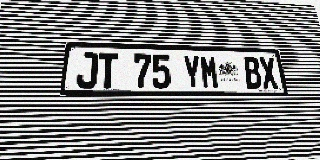5: (152, 54, 171, 88)
7: (133, 54, 152, 88)
B: (242, 57, 263, 89)
J: (76, 52, 98, 88)
M: (200, 55, 220, 89)
T: (97, 53, 118, 88)
X: (258, 57, 279, 89)
Y: (182, 55, 202, 89)
